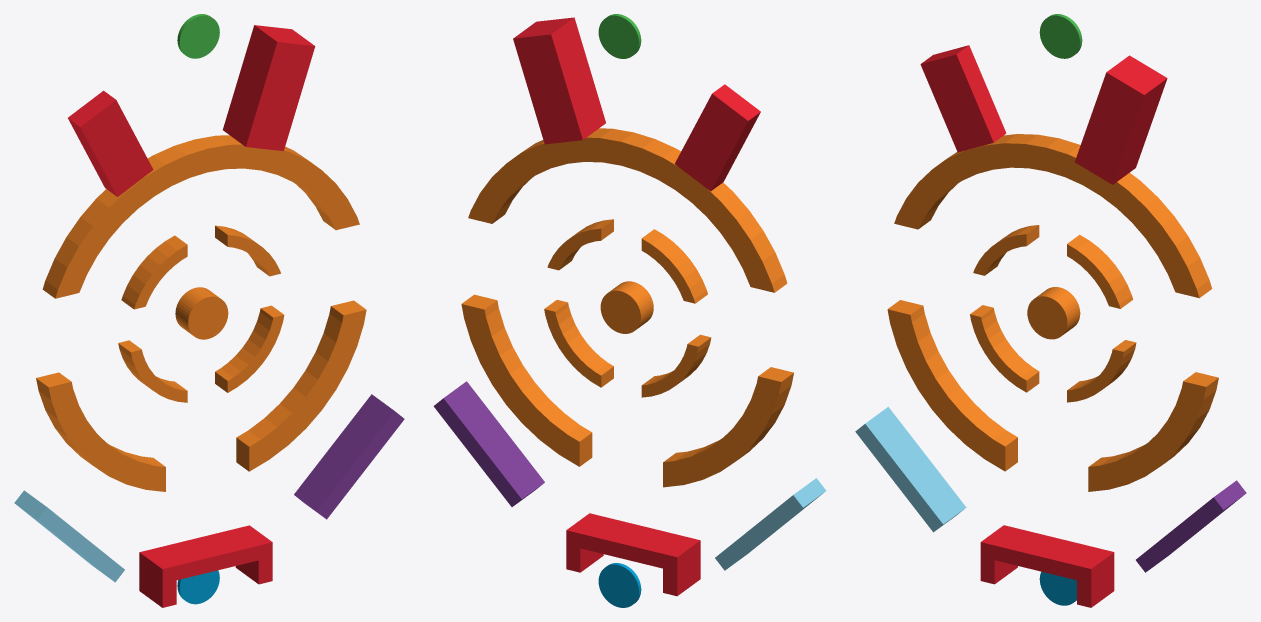
File: tinker.obj
3 views of the same model, side by side, from view 1: azimuth 30°, elevation 25°; view 2: azimuth 150°, elevation 25°; view 3: azimuth 330°, elevation 25° (orthographic).
Visible parts, largest first — view 1: obj_7, obj_9, obj_6, obj_8, obj_0, obj_1, obj_5, obj_2, obj_4, obj_3; view 2: obj_7, obj_9, obj_6, obj_8, obj_0, obj_1, obj_4, obj_5, obj_2, obj_3; view 3: obj_7, obj_9, obj_1, obj_8, obj_0, obj_6, obj_5, obj_3, obj_4, obj_2.
Part boxes in pixels (x1,y1,x2,y2): obj_7: (36, 135, 366, 491); obj_9: (223, 25, 315, 151); obj_6: (294, 394, 404, 519); obj_8: (68, 90, 153, 196); obj_0: (139, 525, 272, 582); obj_1: (14, 490, 124, 582); obj_5: (177, 14, 219, 58); obj_2: (139, 553, 176, 607); obj_4: (177, 570, 219, 604); obj_3: (235, 526, 272, 584); obj_7: (461, 128, 793, 487); obj_9: (513, 17, 605, 144); obj_6: (433, 381, 544, 506); obj_8: (675, 84, 760, 191); obj_0: (566, 513, 700, 571); obj_1: (715, 478, 826, 570); obj_4: (598, 563, 641, 607); obj_5: (598, 14, 641, 58); obj_2: (663, 539, 700, 596); obj_3: (566, 513, 603, 572); obj_7: (887, 134, 1218, 491); obj_9: (1075, 55, 1167, 184); obj_1: (855, 406, 966, 532); obj_8: (920, 45, 1006, 152); obj_0: (980, 525, 1114, 583); obj_6: (1136, 480, 1246, 572); obj_5: (1039, 14, 1082, 58); obj_3: (1077, 552, 1114, 607); obj_4: (1039, 571, 1076, 605); obj_2: (980, 526, 1017, 584).
Size of the model in its own units: 183 by 280 by 24.5.
